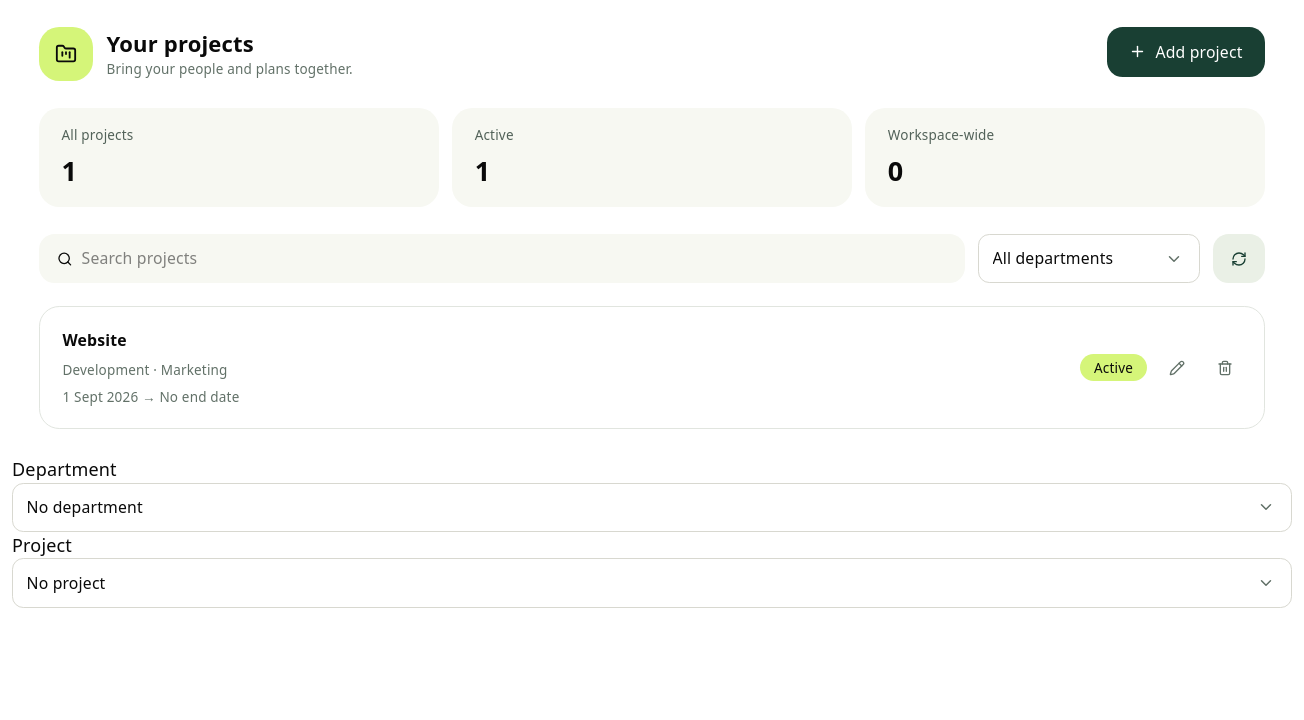
Test: clears a project selector when the selected project is removed by a catalog refresh
Check: the button named "Edit Website" is shown, box [1160,351,1194,385]
Select "Website" in the dropdown labelled "Project". click: (652, 583)
box: [12,558,1292,608]
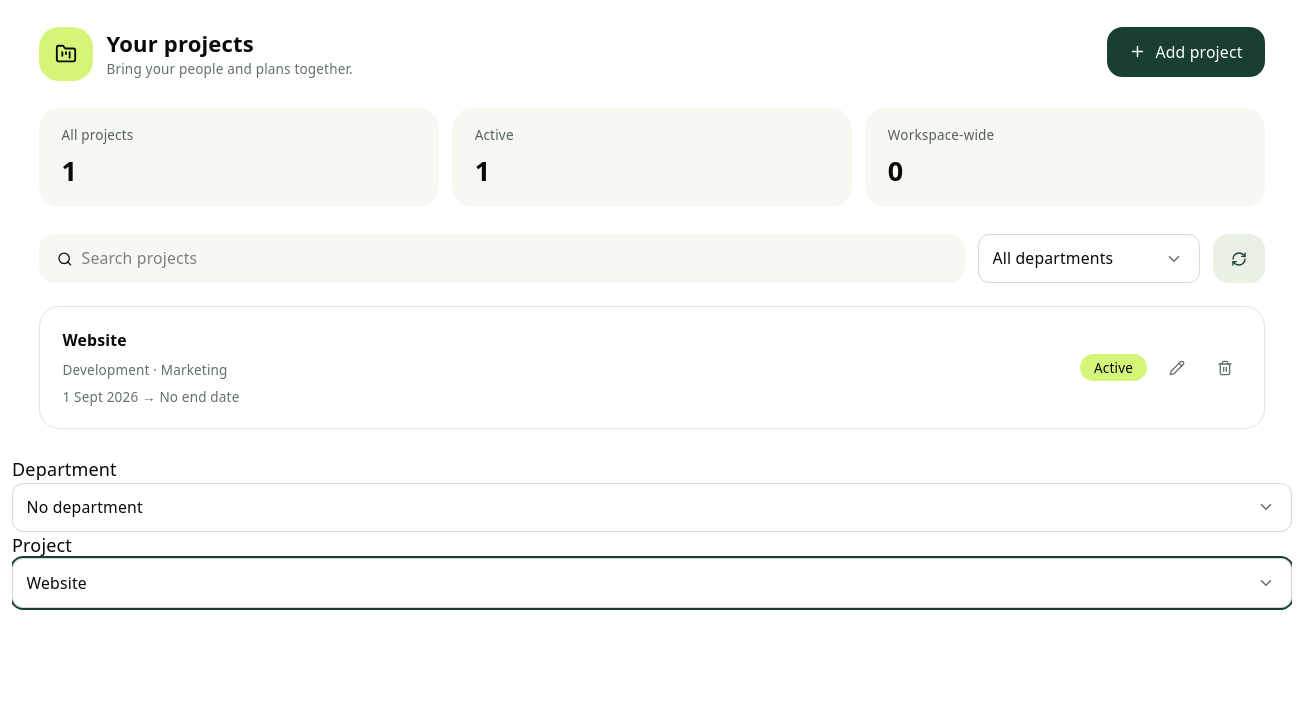
Click the button named "Refresh projects". click: (1239, 259)
box: [1213,234,1265,284]
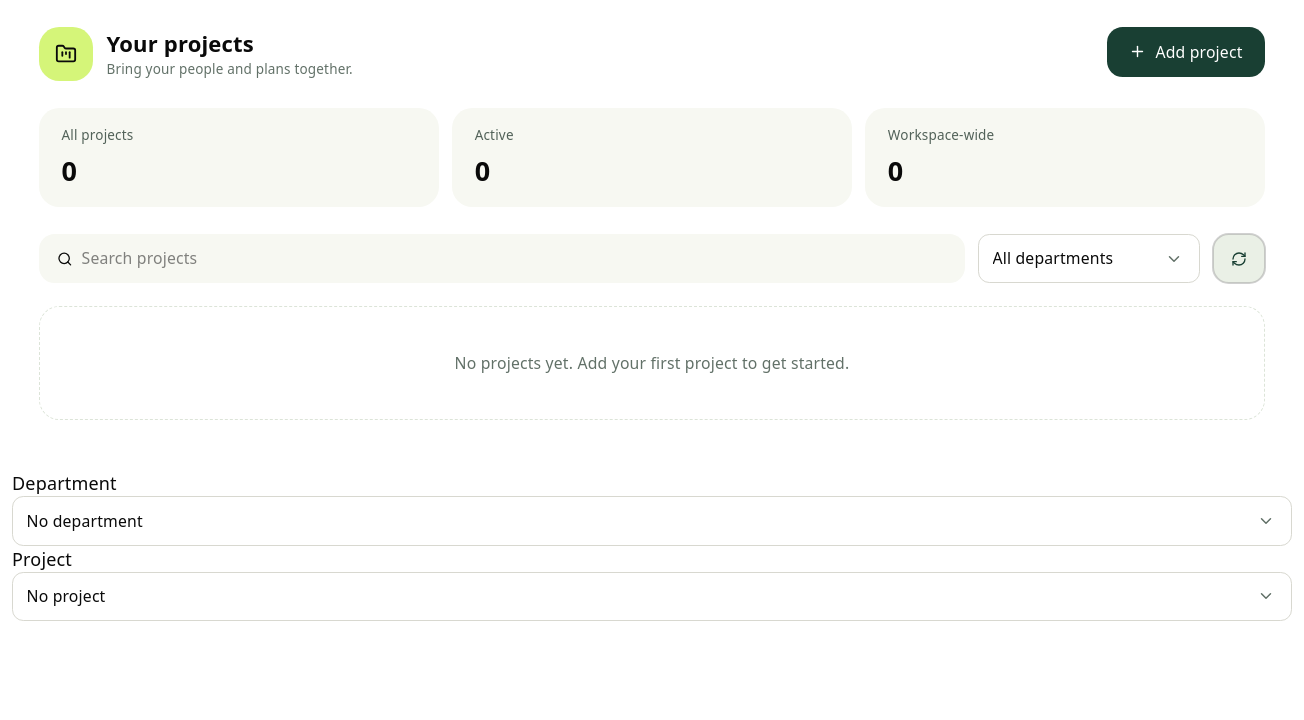
Check: the text "Website" is gone
